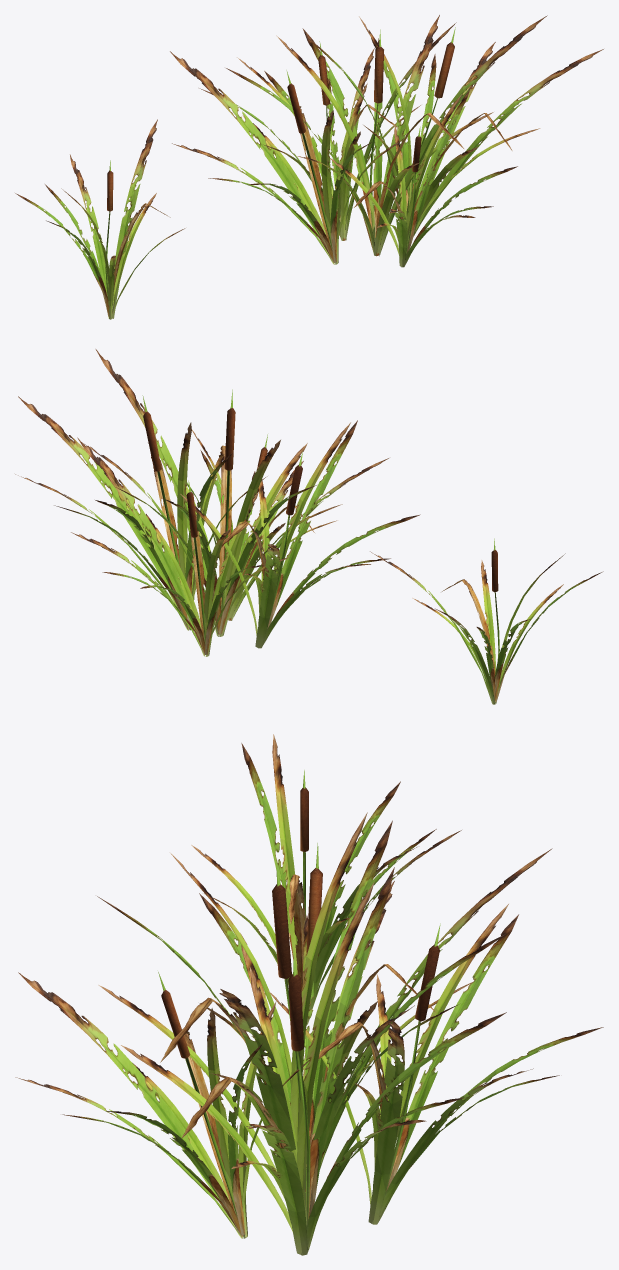
Rendered from co-nen.fbx.
The picture shows the model from 3 angles, top to bottom: view 1: azimuth 30°, elevation 25°; view 2: azimuth 150°, elevation 25°; view 3: azimuth 270°, elevation 25°; orthographic projection. The views are drawn at different scales.
Visible parts, largest first — view 1: BuiCoNen, CoNen; view 2: BuiCoNen, CoNen; view 3: BuiCoNen, CoNen.
Part boxes in pixels (left/top/right/bottom): BuiCoNen: left=170, top=15, right=603, bottom=267; CoNen: left=15, top=119, right=185, bottom=319; BuiCoNen: left=15, top=349, right=420, bottom=656; CoNen: left=370, top=538, right=603, bottom=704; BuiCoNen: left=15, top=812, right=603, bottom=1255; CoNen: left=191, top=734, right=461, bottom=1024.
Size of the model in its own units: 748 by 297 by 426.
Materials: 1 (1 with a texture image).
